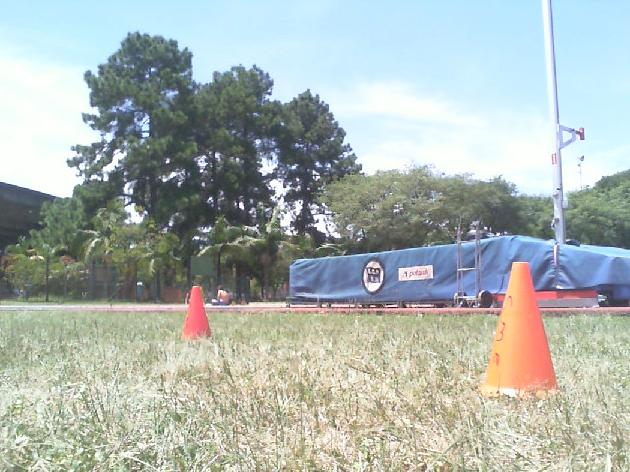0 cone: (479, 262, 561, 401), (182, 287, 212, 338)
